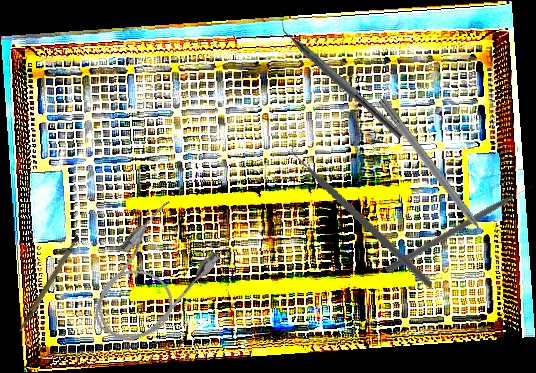Cannula: (72, 195, 228, 360)
Chopper: (268, 134, 456, 289), (268, 10, 413, 141)
Hook Surgical: (376, 96, 496, 251)
Pusher: (384, 182, 536, 275)
Scalpel Handle: (3, 234, 92, 333)
